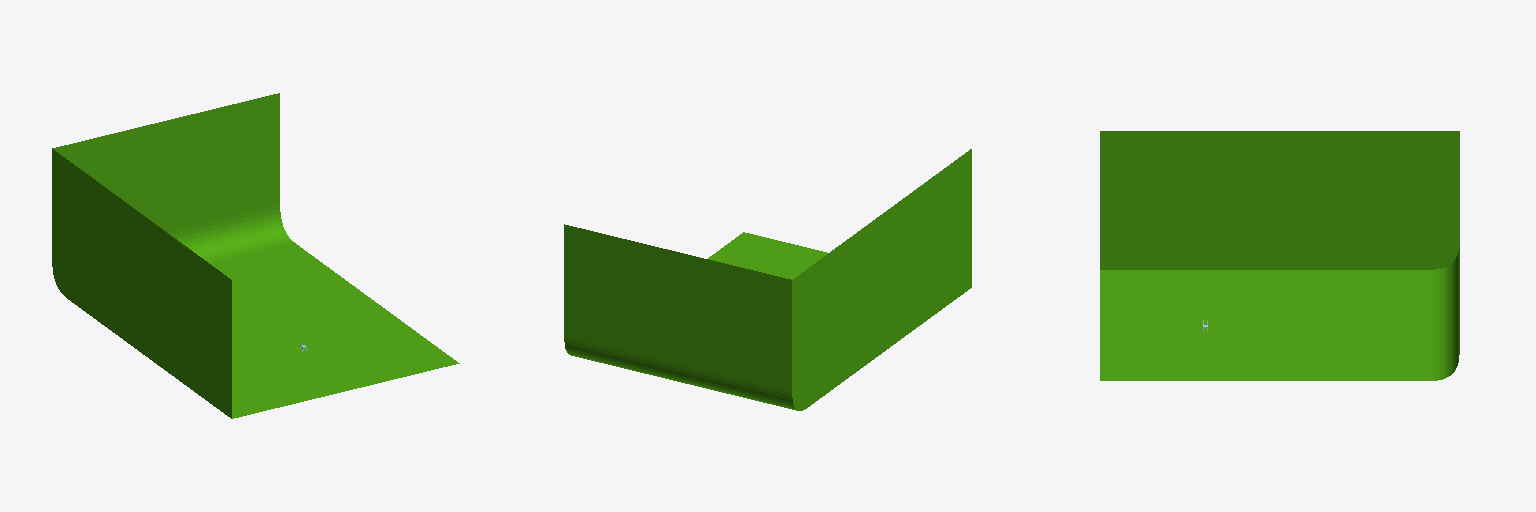
Rendered from Chair.obj.
3 views of the same model, side by side, from view 1: azimuth 30°, elevation 25°; view 2: azimuth 150°, elevation 25°; view 3: azimuth 270°, elevation 25° (orthographic).
Visible parts, largest first — view 1: Studio; view 2: Studio; view 3: Studio.
Boxes of the visible parts, box(x1,y1,x2,y2) form: Studio: box(52, 93, 459, 418); Studio: box(564, 149, 971, 410); Studio: box(1100, 131, 1459, 380).
Bounding box in the file's own units: 6849 × 3997 × 9343.